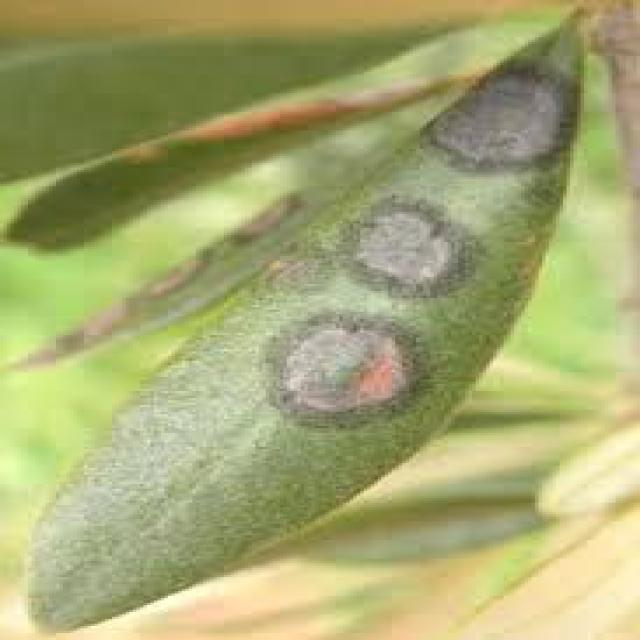Peacock Eye: (28, 12, 577, 631)
